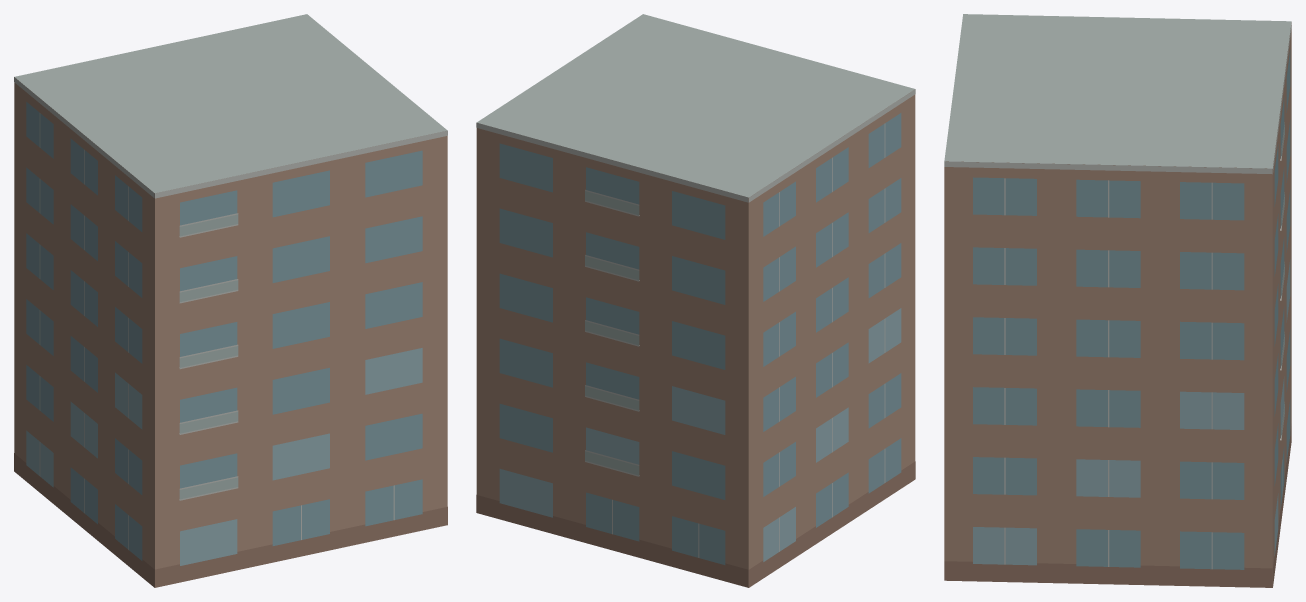
Rendered from survey-upis-32978045.glb.
3 views of the same model, side by side, from view 1: azimuth 30°, elevation 25°; view 2: azimuth 150°, elevation 25°; view 3: azimuth 270°, elevation 25° (orthographic). The views are drawn at different scales.
Visible parts, largest first — view 1: survey-upis-32978045.tmp; view 2: survey-upis-32978045.tmp; view 3: survey-upis-32978045.tmp.
Boxes of the visible parts, <box> form: survey-upis-32978045.tmp: <box>14,14,447,587</box>; survey-upis-32978045.tmp: <box>476,14,915,587</box>; survey-upis-32978045.tmp: <box>944,14,1291,587</box>.
Bounding box in the file's own units: 14.48 × 18.3 × 13.75.
